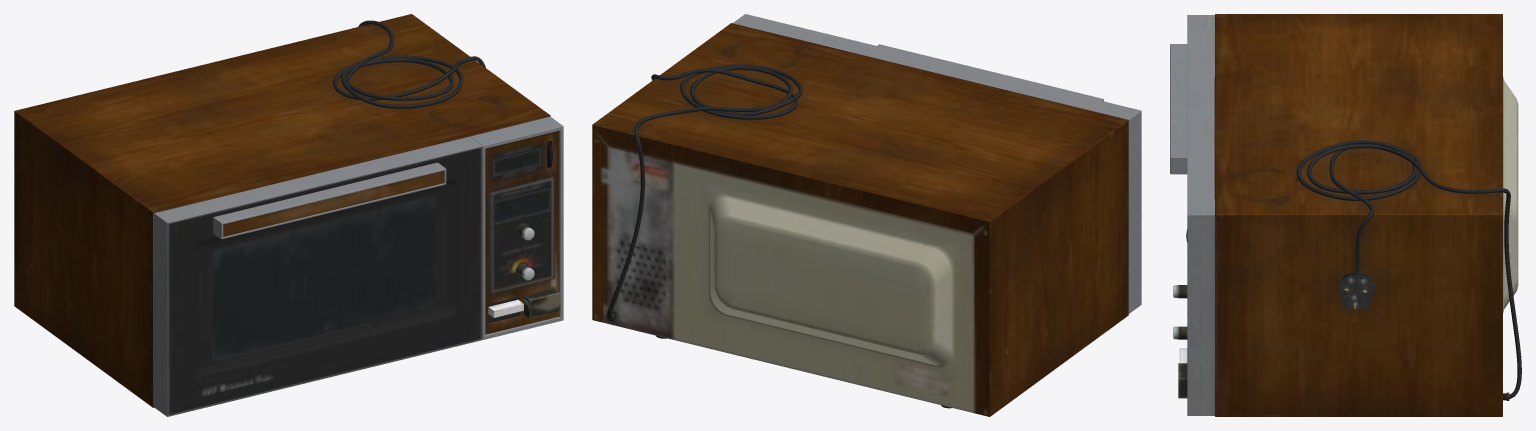
3 renders of one model, left to right at view 1: azimuth 30°, elevation 25°; view 2: azimuth 150°, elevation 25°; view 3: azimuth 270°, elevation 25°, orthographic. The views are drawn at different scales.
Parts seen in each view (by area): view 1: vintage_microwave; view 2: vintage_microwave; view 3: vintage_microwave.
Part boxes in pixels (x1,y1,x2,y2): vintage_microwave: (14,14,563,416); vintage_microwave: (592,14,1141,416); vintage_microwave: (1170,14,1521,416).
Size of the model in its own units: 1.07 by 0.5258 by 0.7456.
Materials: 2 (2 with a texture image).
